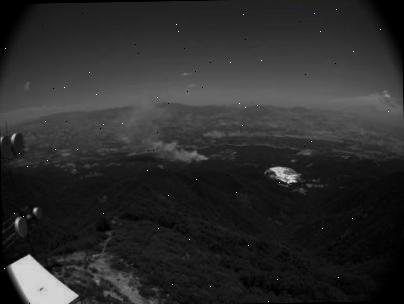smoke: (105, 97, 214, 167)
